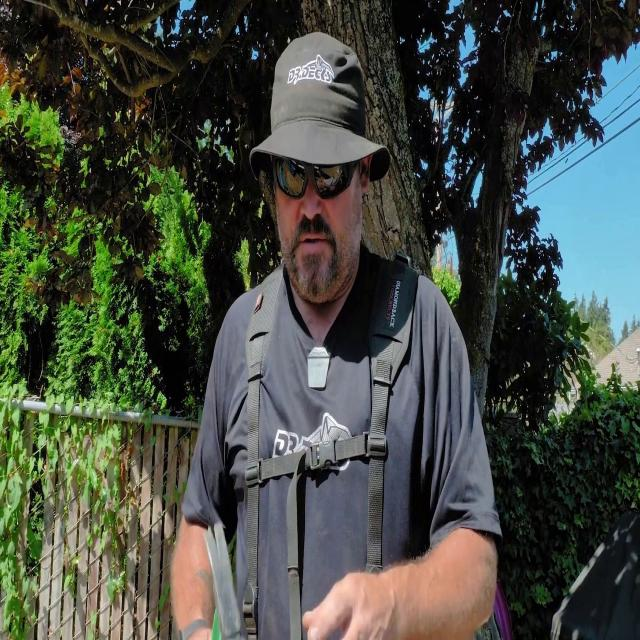hammer: (202, 521, 246, 640)
